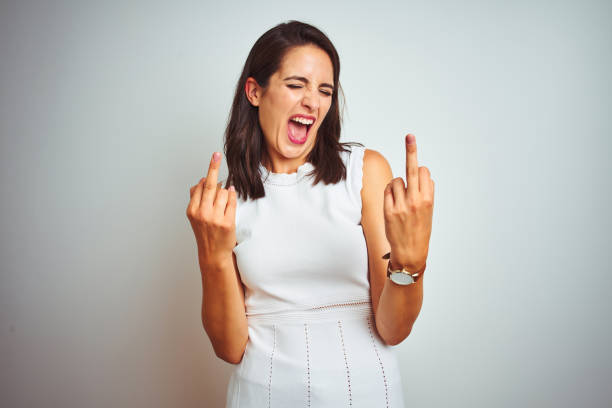insulting_gesture: (382, 132, 438, 257), (187, 150, 236, 254)
